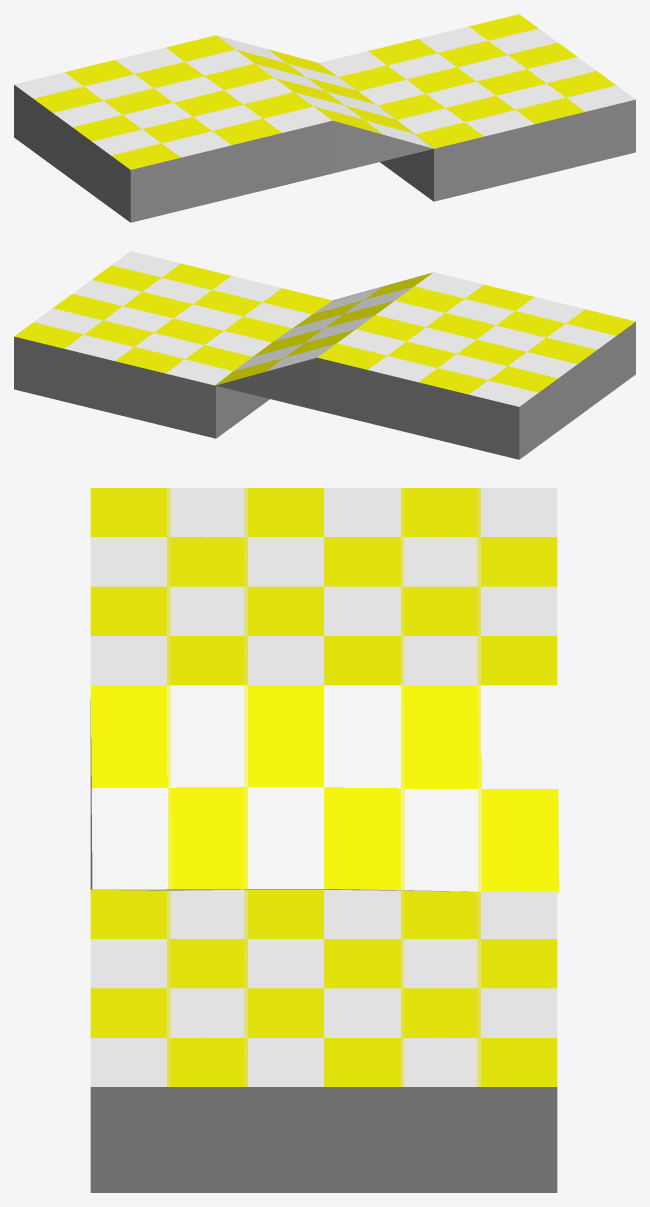
File: area3.fbx
3 renders of one model, top to bottom at view 1: azimuth 30°, elevation 25°; view 2: azimuth 150°, elevation 25°; view 3: azimuth 270°, elevation 25°, orthographic. The views are drawn at different scales.
Visible parts, largest first — view 1: cube2x4:pCube1, cube2x5:pCube1, cube2x3:pCube1, cube2x6:pCube1, cube2x2:pCube1; view 2: cube2x4:pCube1, cube2x5:pCube1, cube2x3:pCube1, cube2x6:pCube1, cube2x2:pCube1; view 3: cube2x2:pCube1, cube2x6:pCube1, cube2x3:pCube1, cube2x4:pCube1, cube2x5:pCube1.
Boxes of the visible parts, left/top/right/bottom form: cube2x4:pCube1: left=14, top=60, right=231, bottom=222; cube2x5:pCube1: left=319, top=39, right=534, bottom=201; cube2x3:pCube1: left=115, top=35, right=332, bottom=197; cube2x6:pCube1: left=418, top=14, right=635, bottom=176; cube2x2:pCube1: left=216, top=35, right=433, bottom=173; cube2x4:pCube1: left=418, top=297, right=635, bottom=459; cube2x5:pCube1: left=115, top=276, right=332, bottom=438; cube2x3:pCube1: left=317, top=272, right=534, bottom=434; cube2x6:pCube1: left=14, top=251, right=231, bottom=413; cube2x2:pCube1: left=214, top=272, right=433, bottom=410; cube2x2:pCube1: left=90, top=685, right=559, bottom=892; cube2x6:pCube1: left=90, top=988, right=557, bottom=1192; cube2x3:pCube1: left=90, top=586, right=557, bottom=685; cube2x4:pCube1: left=90, top=488, right=557, bottom=586; cube2x5:pCube1: left=90, top=889, right=557, bottom=988.
Bounding box in the file's own units: 10 × 2 × 4.02.
11 materials, 10 textured.
